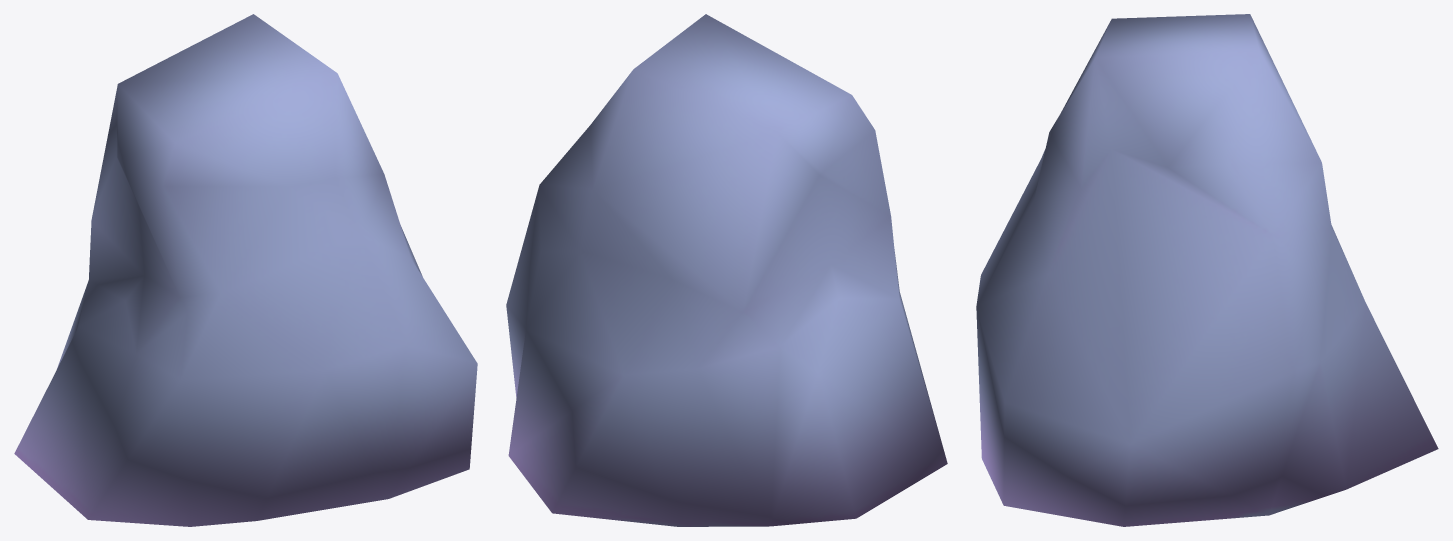
The model's file is Boulder3.glb.
3 renders of one model, left to right at view 1: azimuth 30°, elevation 25°; view 2: azimuth 150°, elevation 25°; view 3: azimuth 270°, elevation 25°, orthographic. The views are drawn at different scales.
Parts seen in each view (by area): view 1: Boulder3; view 2: Boulder3; view 3: Boulder3.
Part boxes in pixels (x1,y1,x2,y2): Boulder3: (14, 14, 477, 526); Boulder3: (506, 14, 947, 526); Boulder3: (976, 14, 1438, 526).
Size of the model in its own units: 4.05 by 4.01 by 4.1.
Materials: 1 (1 with a texture image).
